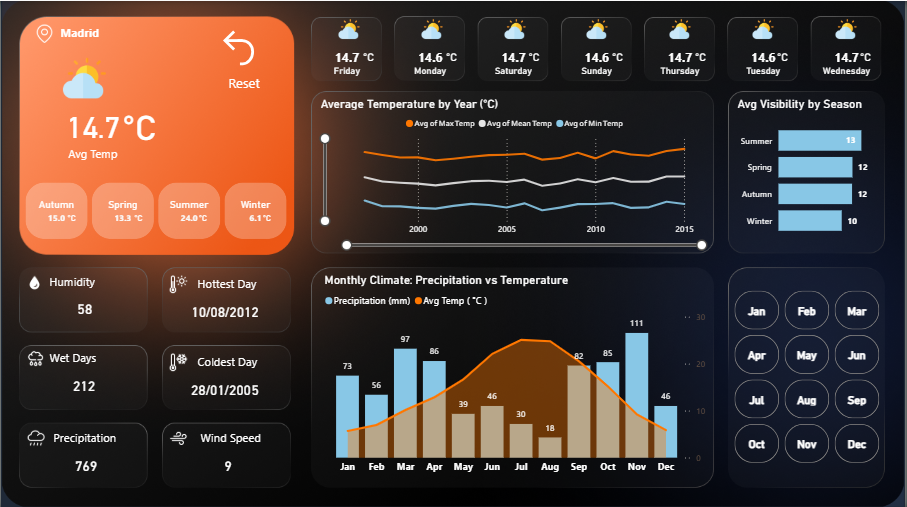

What the dashboard file says about the page in this screenshot:
{"tool":"powerbi","page":{"name":"Over View","canvas":[1280,720],"ordinal":0},"visuals":[{"type":"image","box":[1170.7,20,53.9,40],"z":0,"group":"g25"},{"type":"image","box":[39.7,28.3,43,36],"z":0,"group":"g9"},{"type":"group","id":"g1","title":"Group 1","box":[29.8,117.6,201.3,134.6],"z":0},{"type":"card","fields":{"Values":["Measures..Avg Temp"]},"box":[29.8,117.6,201.3,134.6],"z":0,"group":"g11"},{"type":"advancedSlicerVisual","fields":{"Values":["Calendar.Season"]},"box":[30,252.7,382.6,90],"z":0,"group":"g7"},{"type":"card","fields":{"Values":["Measures..c"]},"box":[85.4,293.8,30.2,30.9],"z":0,"group":"g8"},{"type":"group","id":"g2","title":"Group 6","box":[259.7,384.8,118.2,75.5],"z":0,"group":"g15"},{"type":"card","fields":{"Values":["Measures..Avg Humidity"]},"box":[65.5,416.5,106.3,39.7],"z":0,"group":"g10"},{"type":"card","fields":{"Values":["Measures..Hottest Day"]},"box":[259.7,423.4,116.2,36.9],"z":0,"group":"g2"},{"type":"group","id":"g3","title":"Group 6","box":[64.2,489,104.8,75.1],"z":0,"group":"g12"},{"type":"group","id":"g4","title":"Group 6","box":[259.6,495.1,118.2,75.5],"z":0,"group":"g18"},{"type":"card","fields":{"Values":["Measures..Wet Days"]},"box":[67,527.3,102,36.9],"z":0,"group":"g3"},{"type":"card","fields":{"Values":["Measures..Coldest Day"]},"box":[259.6,533.7,116.2,36.9],"z":0,"group":"g4"},{"type":"group","id":"g5","title":"Group 6","box":[69.5,602,103.6,75.3],"z":0,"group":"g14"},{"type":"group","id":"g6","title":"Group 6","box":[263.1,602.5,118.2,75.5],"z":0,"group":"g20"},{"type":"card","fields":{"Values":["Measures..Total Precipitation"]},"box":[69.5,640.5,102,36.9],"z":0,"group":"g5"},{"type":"card","fields":{"Values":["Measures..Avg Wind Speed"]},"box":[263.1,641.1,116.2,36.9],"z":0,"group":"g6"},{"type":"image","box":[1053.3,20,53.9,40],"z":1000,"group":"g25"},{"type":"textbox","box":[79.8,28.3,88.5,31.4],"z":1000,"group":"g9"},{"type":"group","id":"g7","title":"Group 3","box":[30,252.7,382.6,90],"z":1000},{"type":"card","fields":{"Values":["Measures..c"]},"box":[175,293.8,41.1,31.2],"z":1000,"group":"g8"},{"type":"image","box":[33.3,381,29.8,36.1],"z":1000,"group":"g10"},{"type":"image","box":[31.2,489,36,36],"z":1000,"group":"g12"},{"type":"image","box":[935.9,20,53.9,40],"z":2000,"group":"g25"},{"type":"image","box":[30,73.5,177.1,70.5],"z":2000},{"type":"card","fields":{"Values":["Measures..c"]},"box":[165.4,126.6,59.8,97.2],"z":2000,"group":"g11"},{"type":"group","id":"g8","title":"Group 2","box":[85.4,293.8,311.8,31.2],"z":2000,"group":"g7"},{"type":"card","fields":{"Values":["Measures..c"]},"box":[266.3,293.8,39.6,31.2],"z":2000,"group":"g8"},{"type":"textbox","box":[64.5,381,93.5,36.1],"z":2000,"group":"g10"},{"type":"textbox","box":[274.5,384.8,103.5,36.9],"z":2000,"group":"g2"},{"type":"textbox","box":[64.2,489,97.8,35.4],"z":2000,"group":"g3"},{"type":"textbox","box":[274.4,495.1,103.5,36.9],"z":2000,"group":"g4"},{"type":"textbox","box":[69.7,602,103.5,36.9],"z":2000,"group":"g5"},{"type":"textbox","box":[277.9,602.5,103.5,36.9],"z":2000,"group":"g6"},{"type":"image","box":[583.7,20,53.9,40],"z":3000,"group":"g25"},{"type":"card","fields":{"Values":["Measures..c"]},"box":[357.5,296.6,39.7,26.9],"z":3000,"group":"g8"},{"type":"image","box":[818.5,20,53.9,40],"z":4000,"group":"g25"},{"type":"group","id":"g9","title":"Group 4","box":[39.7,28.3,128.5,36],"z":4000},{"type":"image","box":[701.1,20,53.9,40],"z":5000,"group":"g25"},{"type":"group","id":"g10","title":"Group 6","box":[33.3,381,138.5,75.2],"z":5000},{"type":"group","id":"g11","title":"Group 5","box":[29.8,117.6,201.3,134.6],"z":5001,"group":"g1"},{"type":"image","box":[466.3,20,53.9,40],"z":6000,"group":"g25"},{"type":"group","id":"g12","title":"Group 7","box":[31.2,489,137.8,75.2],"z":6000},{"type":"group","id":"g13","title":"Group 10","box":[438,20,813.5,91.6],"z":7000},{"type":"group","id":"g14","title":"Group 7","box":[69.5,602,103.6,75.3],"z":7000,"group":"g19"},{"type":"group","id":"g15","title":"Group 7","box":[259.7,384.8,118.2,75.5],"z":8000,"group":"g17"},{"type":"group","id":"g16","title":"Group 12","box":[233.9,602.4,147.5,75.5],"z":8000},{"type":"group","id":"g17","title":"Group 13","box":[231,384.1,146.9,76.1],"z":9000},{"type":"group","id":"g18","title":"Group 7","box":[259.6,495.1,118.2,75.5],"z":9000,"group":"g21"},{"type":"group","id":"g19","title":"Group 14","box":[29.8,602,143.3,75.3],"z":10000},{"type":"group","id":"g20","title":"Group 7","box":[263.1,602.5,118.2,75.5],"z":10000,"group":"g16"},{"type":"group","id":"g21","title":"Group 15","box":[231,494.6,146.9,75.9],"z":11000},{"type":"image","box":[233.9,602.4,35.4,35.4],"z":11000,"group":"g16"},{"type":"lineChart","title":"Average Temperature by Year (°C)","fields":{"Y":["Avg(Weather.Max Temperature C)","Avg(Weather.Mean Temperature C)","Avg(Weather.Min Temperature C)"],"Category":["Calendar.Year"]},"box":[441.9,129.1,572.4,230.8],"z":12000},{"type":"image","box":[29.8,602.3,39.7,34],"z":12000,"group":"g19"},{"type":"image","box":[231,384.1,41.1,35.4],"z":13000,"group":"g17"},{"type":"lineClusteredColumnComboChart","title":"Monthly Climate: Precipitation vs Temperature","fields":{"Category":["Calendar.Month Name"],"Y":["Measures..Total Precipitation"],"Y2":["Measures..Avg Temp"]},"box":[454,385.7,552.7,293],"z":13000},{"type":"advancedSlicerVisual","fields":{"Values":["Calendar.Day Name"]},"box":[438,53.5,813.5,58.1],"z":14000,"group":"g24"},{"type":"clusteredBarChart","fields":{"Category":["Calendar.Season"],"Y":["Measures..Avg Visibility"]},"box":[1038.6,136.7,206.5,211.1],"z":14000},{"type":"card","fields":{"Values":["Measures..c"]},"box":[858.7,63.5,29.8,32.6],"z":15000,"group":"g23"},{"type":"advancedSlicerVisual","fields":{"Values":["Calendar.Month Name"]},"box":[1034,385.7,216,297.6],"z":15000},{"type":"actionButton","box":[305.5,34.8,69.6,61.9],"z":15001,"group":"g22"},{"type":"textbox","box":[307.3,96.6,74.5,39.6],"z":15002,"group":"g22"},{"type":"group","id":"g22","title":"Group 16","box":[305.5,34.8,76.3,101.4],"z":15003},{"type":"card","fields":{"Values":["Measures..c"]},"box":[975.9,63.5,29.8,32.6],"z":16000,"group":"g23"},{"type":"card","fields":{"Values":["Measures..c"]},"box":[740.1,63.5,31.2,32.6],"z":17000,"group":"g23"},{"type":"card","fields":{"Values":["Measures..c"]},"box":[1093,63.5,29.8,32.6],"z":18000,"group":"g23"},{"type":"card","fields":{"Values":["Measures..c"]},"box":[1210.2,63.5,29.8,32.6],"z":19000,"group":"g23"},{"type":"card","fields":{"Values":["Measures..c"]},"box":[623,63.5,29.8,32.6],"z":20000,"group":"g23"},{"type":"card","fields":{"Values":["Measures..c"]},"box":[505.8,63.5,29.8,32.6],"z":21000,"group":"g23"},{"type":"group","id":"g23","title":"Group 8","box":[505.8,63.5,734.2,32.6],"z":21001,"group":"g24"},{"type":"group","id":"g24","title":"Group 9","box":[438,53.5,813.5,58.1],"z":21002,"group":"g13"},{"type":"group","id":"g25","title":"Group 11","box":[466.3,20,758.3,40],"z":21011,"group":"g13"},{"type":"image","box":[231,494.6,41.1,35.4],"z":21014,"group":"g21"}]}

Visuals, with their boxes in screenshot pixels (x1, y1, x2, y2), scaled from the page's 1280x720 canvas onto the 907x507 screenshot:
image: rect(830, 14, 868, 42)
image: rect(28, 20, 59, 45)
"Group 1" group: rect(21, 83, 164, 178)
card - Measures..Avg Temp: rect(21, 83, 164, 178)
advancedSlicerVisual - Calendar.Season: rect(21, 178, 292, 241)
card - Measures..c: rect(61, 207, 82, 229)
"Group 6" group: rect(184, 271, 268, 324)
card - Measures..Avg Humidity: rect(46, 293, 122, 321)
card - Measures..Hottest Day: rect(184, 298, 266, 324)
"Group 6" group: rect(45, 344, 120, 397)
"Group 6" group: rect(184, 349, 268, 402)
card - Measures..Wet Days: rect(47, 371, 120, 397)
card - Measures..Coldest Day: rect(184, 376, 266, 402)
"Group 6" group: rect(49, 424, 123, 477)
"Group 6" group: rect(186, 424, 270, 477)
card - Measures..Total Precipitation: rect(49, 451, 122, 477)
card - Measures..Avg Wind Speed: rect(186, 451, 269, 477)
image: rect(746, 14, 785, 42)
textbox: rect(57, 20, 119, 42)
"Group 3" group: rect(21, 178, 292, 241)
card - Measures..c: rect(124, 207, 153, 229)
image: rect(24, 268, 45, 294)
image: rect(22, 344, 48, 370)
image: rect(663, 14, 701, 42)
image: rect(21, 52, 147, 101)
card - Measures..c: rect(117, 89, 160, 158)
"Group 2" group: rect(61, 207, 281, 229)
card - Measures..c: rect(189, 207, 217, 229)
textbox: rect(46, 268, 112, 294)
textbox: rect(195, 271, 268, 297)
textbox: rect(45, 344, 115, 369)
textbox: rect(194, 349, 268, 375)
textbox: rect(49, 424, 123, 450)
textbox: rect(197, 424, 270, 450)
image: rect(414, 14, 452, 42)
card - Measures..c: rect(253, 209, 281, 228)
image: rect(580, 14, 618, 42)
"Group 4" group: rect(28, 20, 119, 45)
image: rect(497, 14, 535, 42)
"Group 6" group: rect(24, 268, 122, 321)
"Group 5" group: rect(21, 83, 164, 178)
image: rect(330, 14, 369, 42)
"Group 7" group: rect(22, 344, 120, 397)
"Group 10" group: rect(310, 14, 887, 79)
"Group 7" group: rect(49, 424, 123, 477)
"Group 7" group: rect(184, 271, 268, 324)
"Group 12" group: rect(166, 424, 270, 477)
"Group 13" group: rect(164, 270, 268, 324)
"Group 7" group: rect(184, 349, 268, 402)
"Group 14" group: rect(21, 424, 123, 477)
"Group 7" group: rect(186, 424, 270, 477)
"Group 15" group: rect(164, 348, 268, 402)
image: rect(166, 424, 191, 449)
"Average Temperature by Year (°C)" lineChart: rect(313, 91, 719, 253)
image: rect(21, 424, 49, 448)
image: rect(164, 270, 193, 295)
"Monthly Climate: Precipitation vs Temperature" lineClusteredColumnComboChart: rect(322, 272, 713, 478)
advancedSlicerVisual - Calendar.Day Name: rect(310, 38, 887, 79)
clusteredBarChart - Calendar.Season x Measures..Avg Visibility: rect(736, 96, 882, 245)
card - Measures..c: rect(608, 45, 630, 68)
advancedSlicerVisual - Calendar.Month Name: rect(733, 272, 886, 481)
actionButton: rect(216, 25, 266, 68)
textbox: rect(218, 68, 271, 96)
"Group 16" group: rect(216, 25, 271, 96)
card - Measures..c: rect(692, 45, 713, 68)
card - Measures..c: rect(524, 45, 547, 68)
card - Measures..c: rect(774, 45, 796, 68)
card - Measures..c: rect(858, 45, 879, 68)
card - Measures..c: rect(441, 45, 463, 68)
card - Measures..c: rect(358, 45, 380, 68)
"Group 8" group: rect(358, 45, 879, 68)
"Group 9" group: rect(310, 38, 887, 79)
"Group 11" group: rect(330, 14, 868, 42)
image: rect(164, 348, 193, 373)
